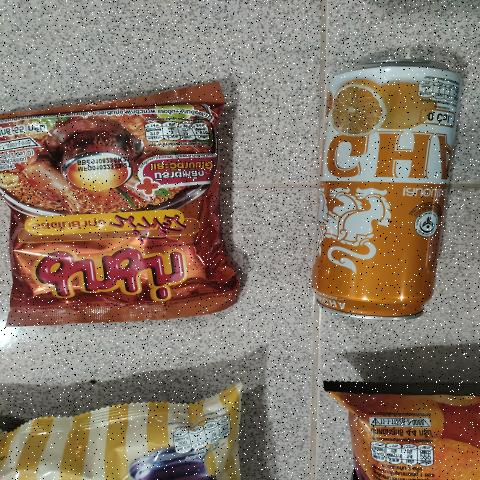mama: (0, 108, 248, 303)
singha_yellow: (302, 56, 469, 331)
